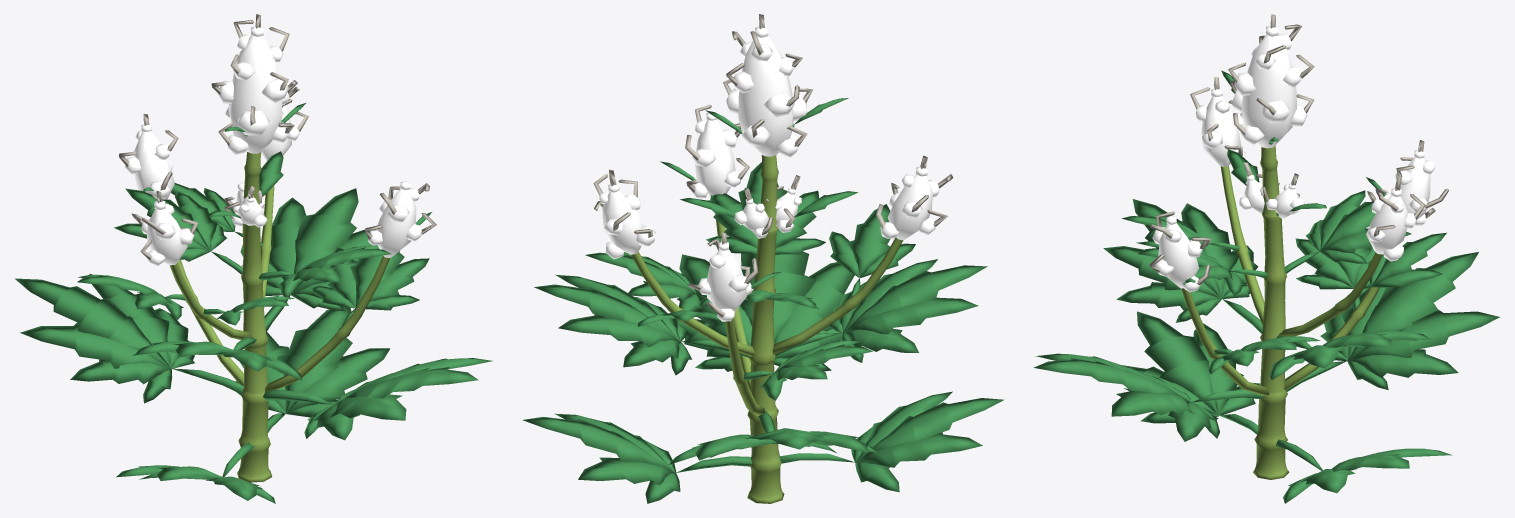
The model's file is plant_flowering.glb.
The picture shows the model from 3 angles, left to right: view 1: azimuth 30°, elevation 25°; view 2: azimuth 150°, elevation 25°; view 3: azimuth 270°, elevation 25°; orthographic projection. The views are drawn at different scales.
Visible parts, largest first — view 1: Leaves, Buds; view 2: Leaves, Buds; view 3: Leaves, Buds.
Boxes of the visible parts, bbox=[...] form: Leaves: bbox=[15, 103, 492, 503]; Buds: bbox=[119, 14, 436, 265]; Leaves: bbox=[522, 98, 1004, 503]; Buds: bbox=[593, 14, 953, 321]; Leaves: bbox=[1033, 70, 1499, 503]; Buds: bbox=[1149, 14, 1448, 292].
Bounding box in the file's own units: 0.7791 × 0.9834 × 0.9064.
